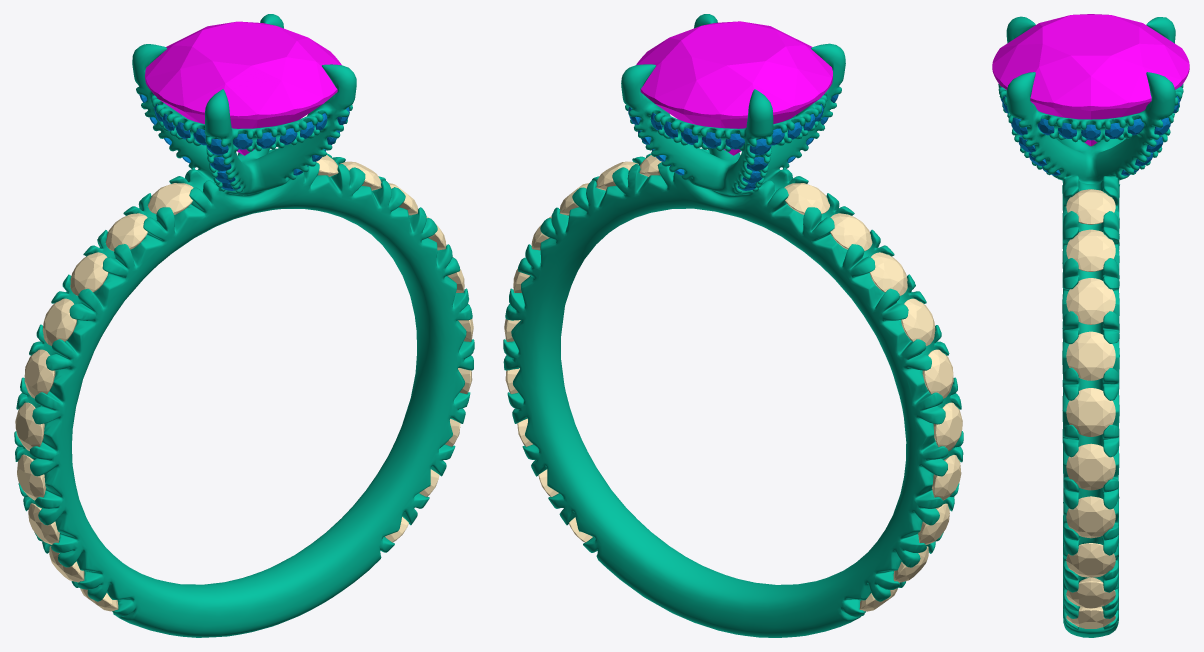
File: BE1D2016_RD_200ct_RENDER.glb
3 renders of one model, left to right at view 1: azimuth 30°, elevation 25°; view 2: azimuth 150°, elevation 25°; view 3: azimuth 270°, elevation 25°, orthographic.
Visible parts, largest first — view 1: Metal 01, CS_Diamond_Round, Diamond_Round_Gem_SH.017, Diamond_Round_Gem_SH.016, Diamond_Round_Gem_SH.018, Diamond_Round_Gem_SH.015, Diamond_Round_Gem_SH.019, Diamond_Round_Gem_SH.014, Diamond_Round_Gem_SH.013, Diamond_Round_Gem_SH.012; view 2: Metal 01, CS_Diamond_Round, Diamond_Round_Gem_SH.017, Diamond_Round_Gem_SH.016, Diamond_Round_Gem_SH.018, Diamond_Round_Gem_SH.015, Diamond_Round_Gem_SH.019, Diamond_Round_Gem_SH.014, Diamond_Round_Gem_SH.013, Diamond_Round_Gem_SH.012; view 3: Metal 01, CS_Diamond_Round, Diamond_Round_Gem_SH.003, Diamond_Round_Gem_SH.004, Diamond_Round_Gem_SH.002, Diamond_Round_Gem_SH.005, Diamond_Round_Gem_SH.001, Diamond_Round_Gem_SH.006, Diamond_Round_Gem_SH, Diamond_Round_Gem_SH.007, Diamond_Round_Gem_SH.008, Diamond_Round_Gem_SH.009.
Boxes of the visible parts, x1,y1,x2,y2 form: Metal 01: (14,14,474,637); CS_Diamond_Round: (145,21,341,155); Diamond_Round_Gem_SH.017: (70,252,108,295); Diamond_Round_Gem_SH.016: (42,298,76,345); Diamond_Round_Gem_SH.018: (105,213,147,251); Diamond_Round_Gem_SH.015: (24,349,55,398); Diamond_Round_Gem_SH.019: (148,183,193,214); Diamond_Round_Gem_SH.014: (15,402,44,450); Diamond_Round_Gem_SH.013: (17,454,46,500); Diamond_Round_Gem_SH.012: (28,503,59,544); Metal 01: (503,14,963,637); CS_Diamond_Round: (636,21,832,155); Diamond_Round_Gem_SH.017: (869,252,907,295); Diamond_Round_Gem_SH.016: (901,298,935,345); Diamond_Round_Gem_SH.018: (830,213,872,251); Diamond_Round_Gem_SH.015: (922,349,953,398); Diamond_Round_Gem_SH.019: (784,183,829,214); Diamond_Round_Gem_SH.014: (933,402,962,451); Diamond_Round_Gem_SH.013: (932,455,961,500); Diamond_Round_Gem_SH.012: (918,503,949,544); Metal 01: (998,16,1183,637); CS_Diamond_Round: (992,14,1189,146); Diamond_Round_Gem_SH.003: (1066,331,1115,380); Diamond_Round_Gem_SH.004: (1066,388,1115,436); Diamond_Round_Gem_SH.002: (1066,278,1115,324); Diamond_Round_Gem_SH.005: (1066,443,1115,490); Diamond_Round_Gem_SH.001: (1066,229,1115,271); Diamond_Round_Gem_SH.006: (1066,496,1115,538); Diamond_Round_Gem_SH: (1066,189,1115,224); Diamond_Round_Gem_SH.007: (1066,543,1115,577); Diamond_Round_Gem_SH.008: (1066,578,1115,608); Diamond_Round_Gem_SH.009: (1066,606,1115,628).
Bounding box in the file's own units: 20.71 × 25.91 × 8.
